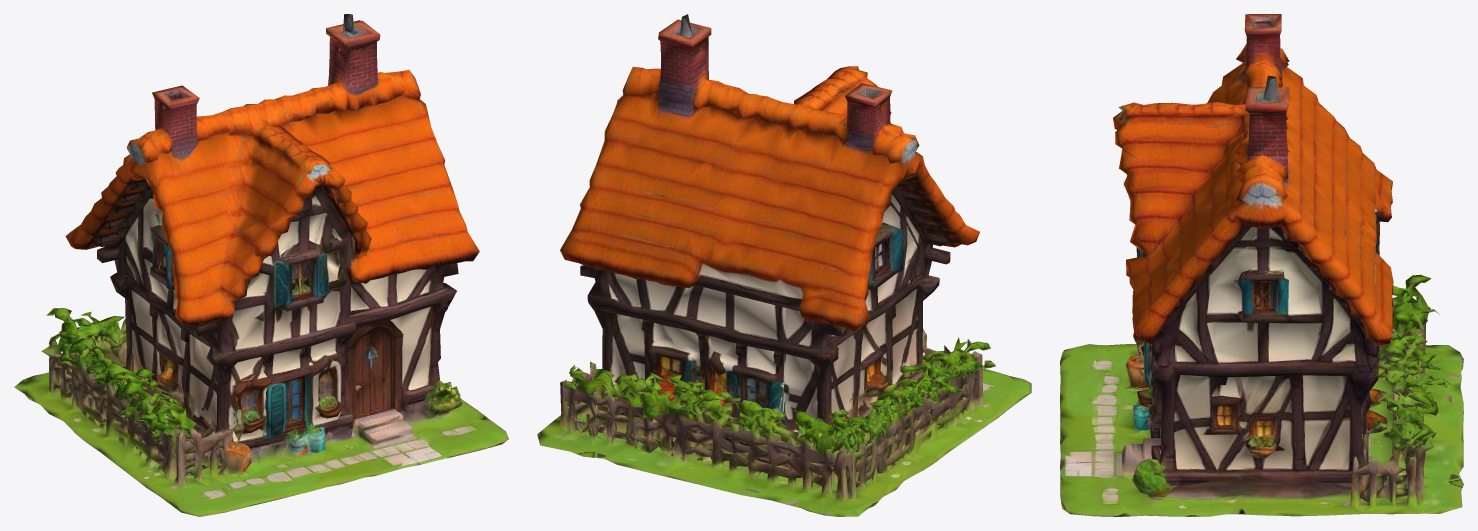
File: housing.glb
3 renders of one model, left to right at view 1: azimuth 30°, elevation 25°; view 2: azimuth 150°, elevation 25°; view 3: azimuth 270°, elevation 25°, orthographic. The views are drawn at different scales.
Parts seen in each view (by area): view 1: Mesh_0; view 2: Mesh_0; view 3: Mesh_0.
Part boxes in pixels (left/top/right/bottom): Mesh_0: left=14, top=14, right=508, bottom=516; Mesh_0: left=537, top=14, right=1031, bottom=516; Mesh_0: left=1060, top=14, right=1463, bottom=516.
Bounding box in the file's own units: 1.75 × 1.91 × 1.73.
1 material, 1 textured.
